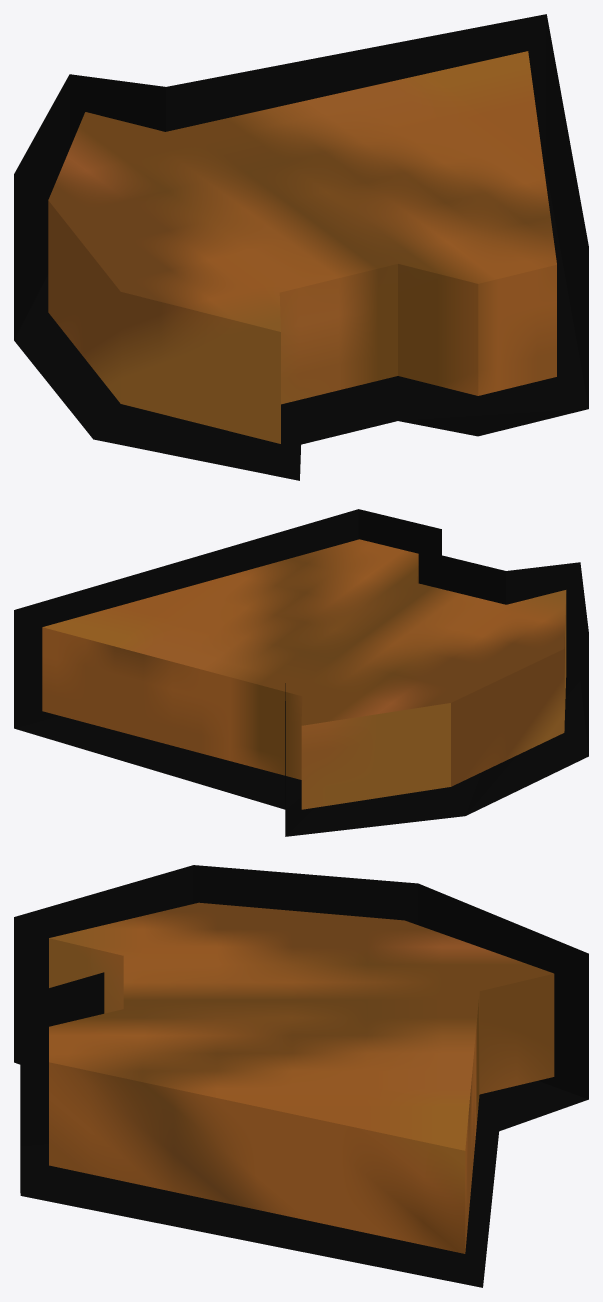
File: Building_HoldingPlatform_Things_Building_HoldingPlatform_HoldingPlatform_RopeFastener.glb
3 renders of one model, top to bottom at view 1: azimuth 30°, elevation 25°; view 2: azimuth 150°, elevation 25°; view 3: azimuth 270°, elevation 25°, orthographic. The views are drawn at different scales.
Parts seen in each view (by area): view 1: Body, Outline; view 2: Body, Outline; view 3: Body, Outline.
Boxes of the visible parts, <box> form: Body: <box>48,51,556,443</box>; Outline: <box>14,14,588,480</box>; Body: <box>42,539,566,809</box>; Outline: <box>14,509,588,836</box>; Body: <box>49,902,554,1253</box>; Outline: <box>14,865,588,1287</box>.
Size of the model in its own units: 0.2418 by 0.0687 by 0.2142.
Materials: 2 (1 with a texture image).
